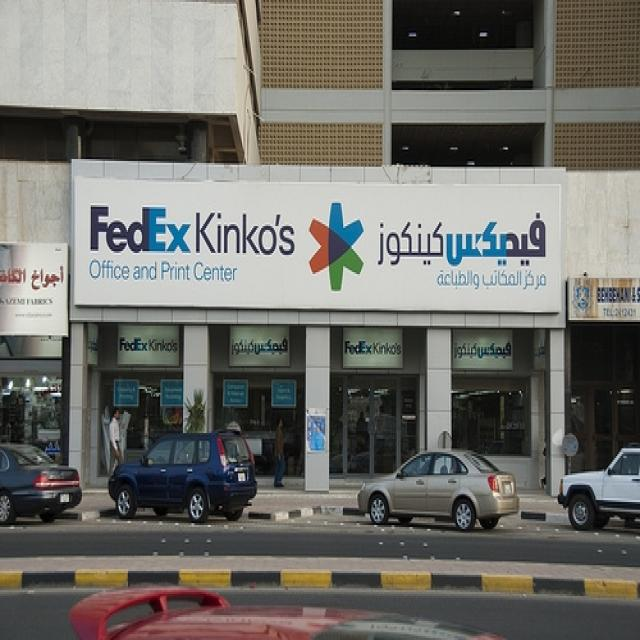fedex: (86, 202, 196, 258)
